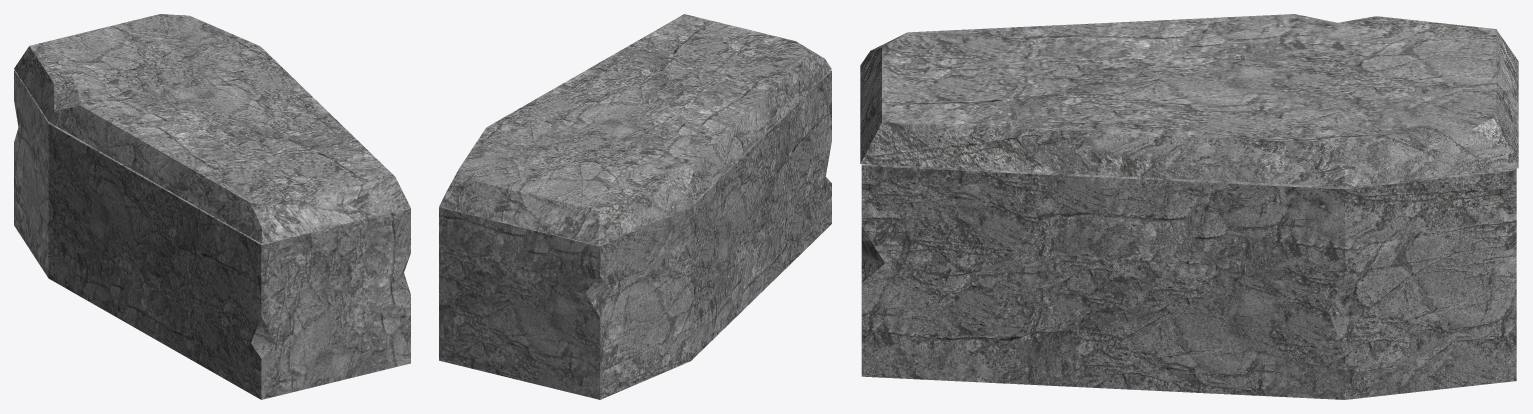
The model's file is materials_3_coffin_0.fbx.
3 renders of one model, left to right at view 1: azimuth 30°, elevation 25°; view 2: azimuth 150°, elevation 25°; view 3: azimuth 270°, elevation 25°, orthographic. The views are drawn at different scales.
Visible parts, largest first — view 1: materials_3_coffin_0; view 2: materials_3_coffin_0; view 3: materials_3_coffin_0.
Part boxes in pixels (x1,y1,x2,y2): materials_3_coffin_0: [14, 14, 410, 399]; materials_3_coffin_0: [439, 14, 831, 399]; materials_3_coffin_0: [860, 14, 1518, 399].
Size of the model in its own units: 99.61 by 79.24 by 190.
